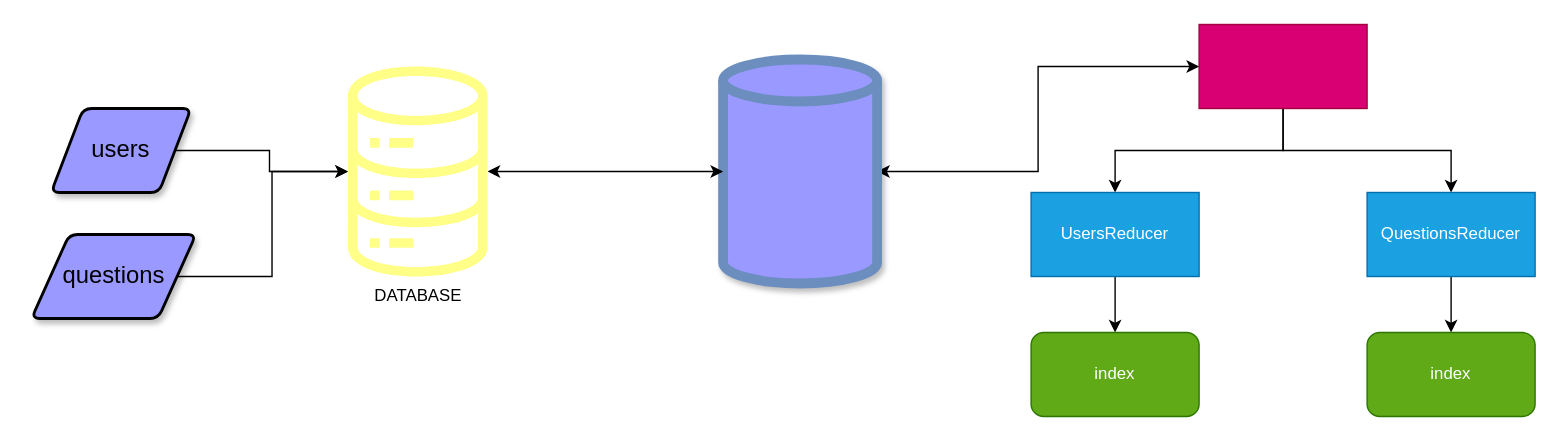
The diagram is 1560 pixels wide and 441 high, and some of its shapes have lost their labels. The shapes that lost their labels are listed below. From the top down, each one's centre as x and y in pixels, then its label:
point 1282,65: Reducer API
point 801,173: store
